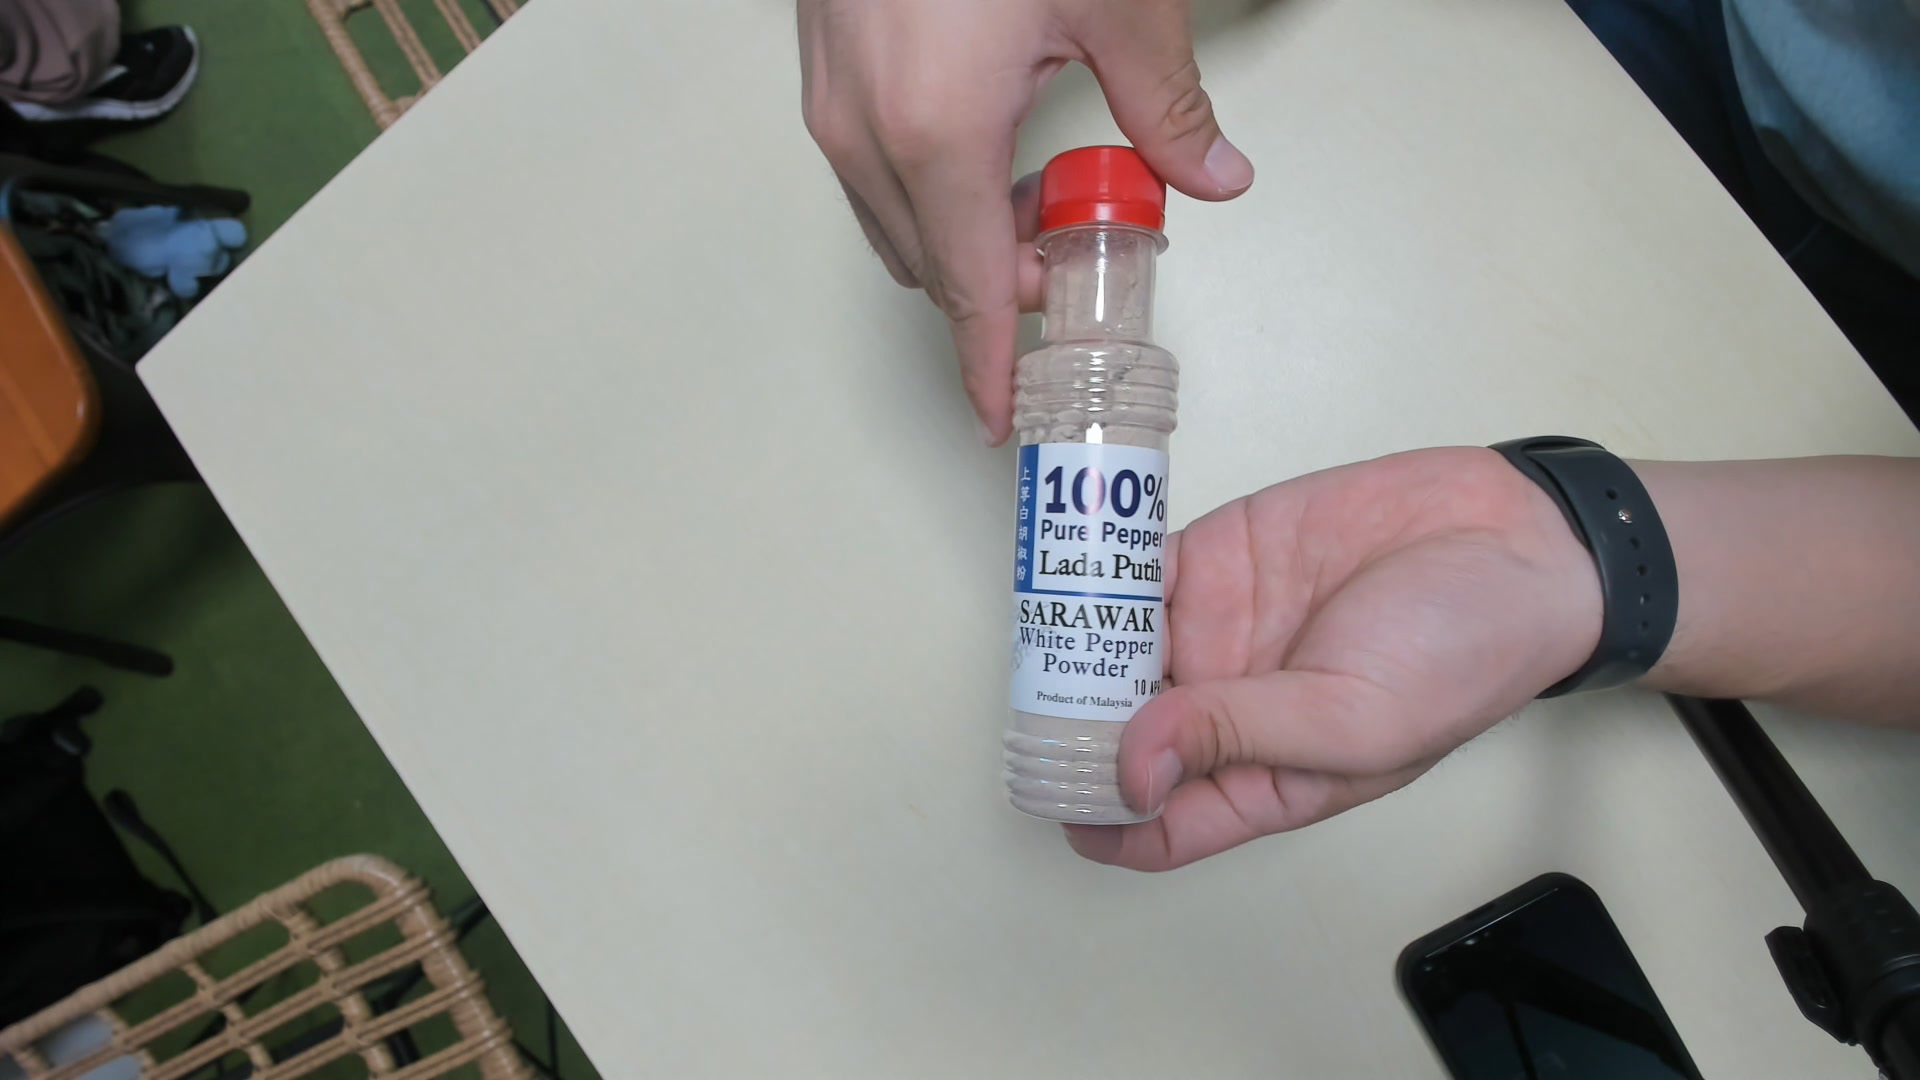HerbsSpicesPepper_0-99g_NonHalal_NonHealthy: (1005, 152, 1174, 828)
